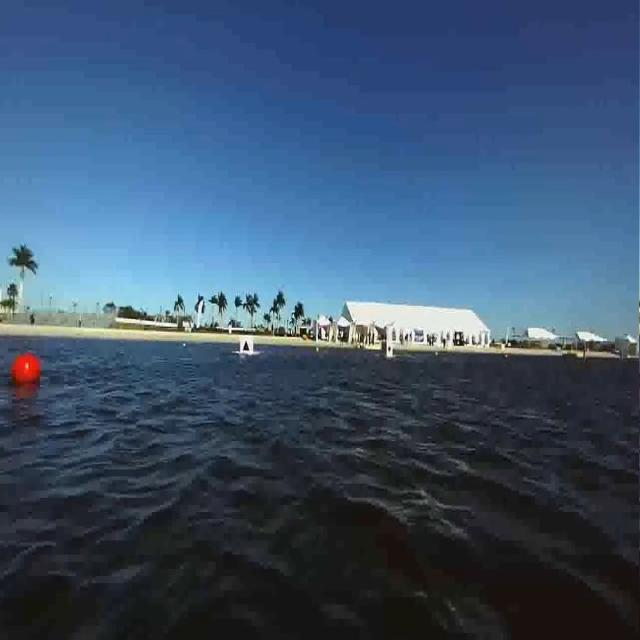red-buoy: (11, 352, 40, 382)
